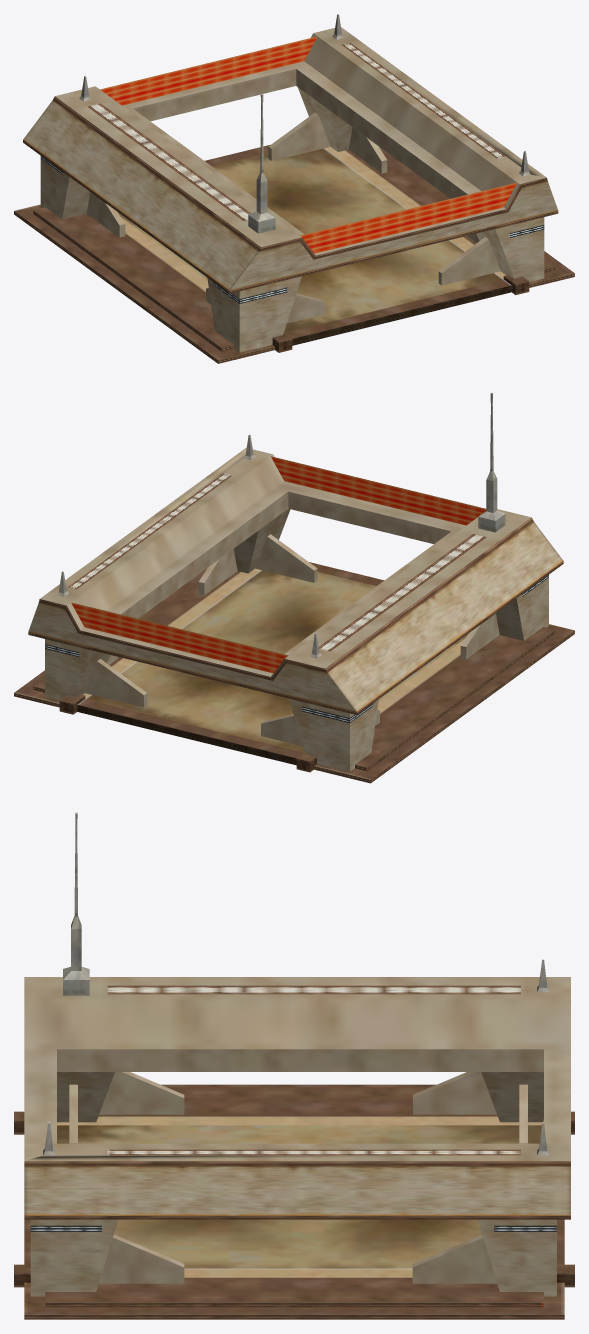
The model's file is mun_tato_shuttleport_s01_l2.fbx.
3 views of the same model, one above another, from view 1: azimuth 30°, elevation 25°; view 2: azimuth 150°, elevation 25°; view 3: azimuth 270°, elevation 25° (orthographic). The views are drawn at different scales.
Visible parts, largest first — view 1: mesh_node; view 2: mesh_node; view 3: mesh_node.
Part boxes in pixels (x1,y1,x2,y2): mesh_node: (14, 14, 574, 363); mesh_node: (14, 392, 574, 783); mesh_node: (14, 812, 574, 1319).
Size of the model in its own units: 31.47 by 20.21 by 32.4.
